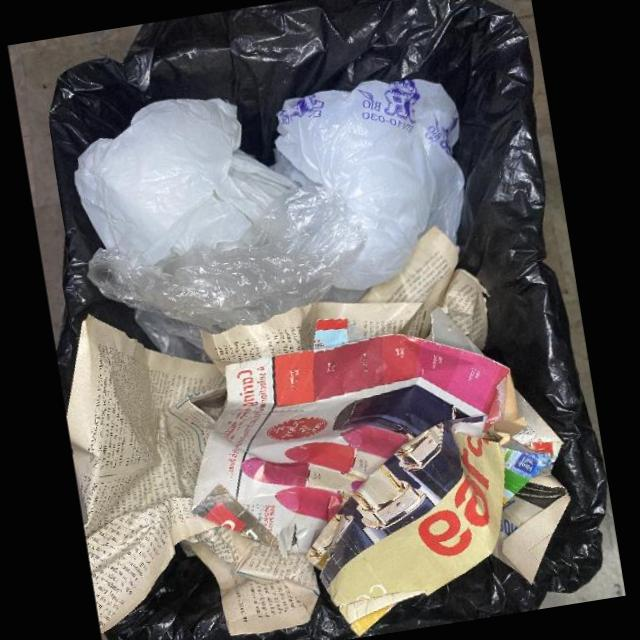giay: (66, 317, 318, 639), (193, 316, 527, 551), (355, 225, 489, 356), (347, 226, 487, 350), (201, 300, 359, 376), (495, 476, 569, 586), (505, 389, 564, 513)
tui_ni_long: (88, 186, 368, 361), (77, 100, 319, 267), (277, 80, 467, 290)
